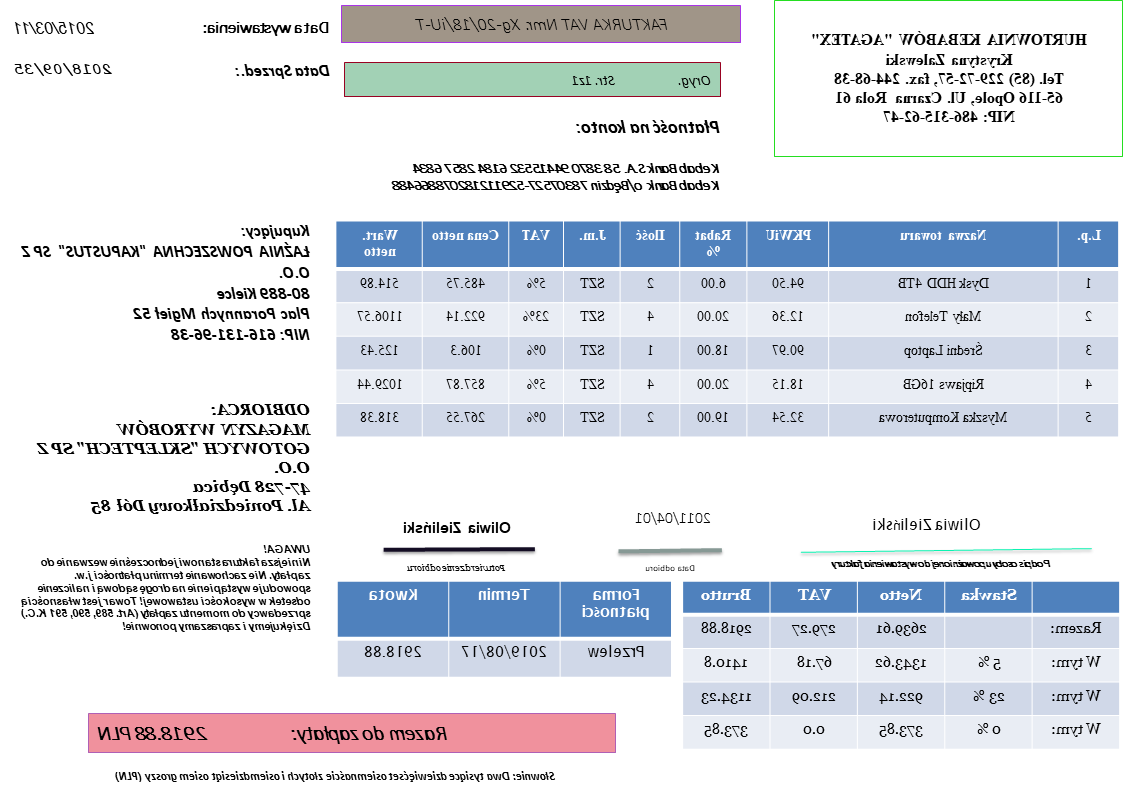Table: (334, 220, 1121, 438), (682, 581, 1121, 750), (337, 579, 673, 679)
TextBox: (19, 221, 314, 345), (34, 400, 314, 518), (808, 24, 1092, 130), (17, 539, 313, 634), (389, 158, 723, 194), (112, 764, 559, 786), (96, 720, 451, 745), (413, 14, 674, 34), (828, 555, 1054, 573), (201, 16, 332, 41), (574, 117, 724, 138), (568, 70, 715, 90), (868, 513, 985, 534), (12, 59, 116, 80), (233, 60, 332, 81), (401, 518, 515, 536), (12, 18, 97, 37), (634, 509, 713, 528), (404, 560, 509, 574), (644, 562, 699, 573)
